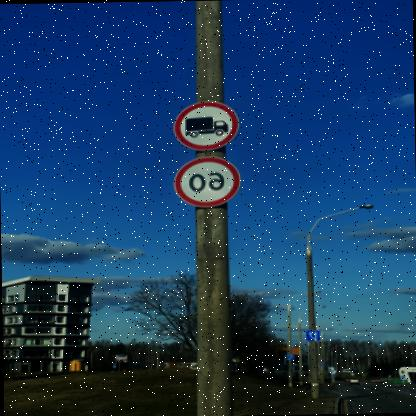speedlimit: (176, 154, 243, 206)
